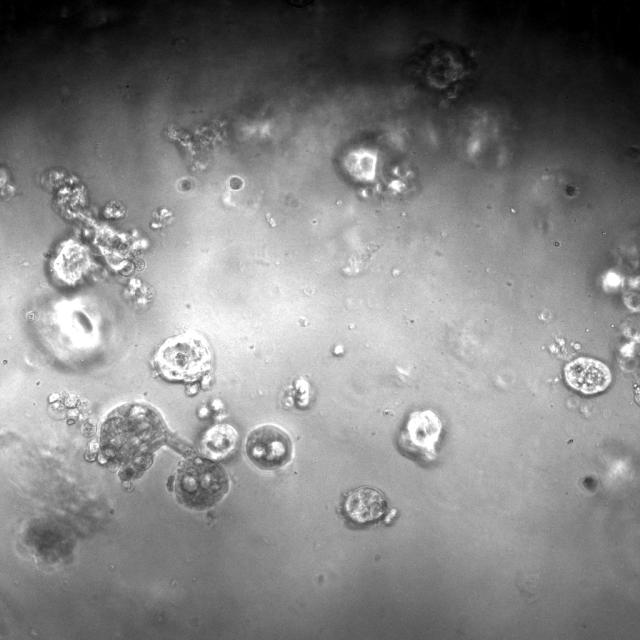organoid: (47, 390, 231, 514), (41, 167, 154, 306), (0, 431, 112, 565), (597, 232, 639, 406), (332, 127, 417, 199), (403, 36, 476, 101), (152, 329, 214, 395), (549, 336, 612, 396), (164, 120, 226, 172), (196, 398, 239, 461), (341, 485, 398, 527), (398, 409, 442, 461), (246, 423, 292, 470), (280, 375, 315, 410), (149, 207, 174, 230), (579, 473, 601, 492), (175, 176, 197, 194), (228, 175, 244, 190), (566, 184, 579, 197)
